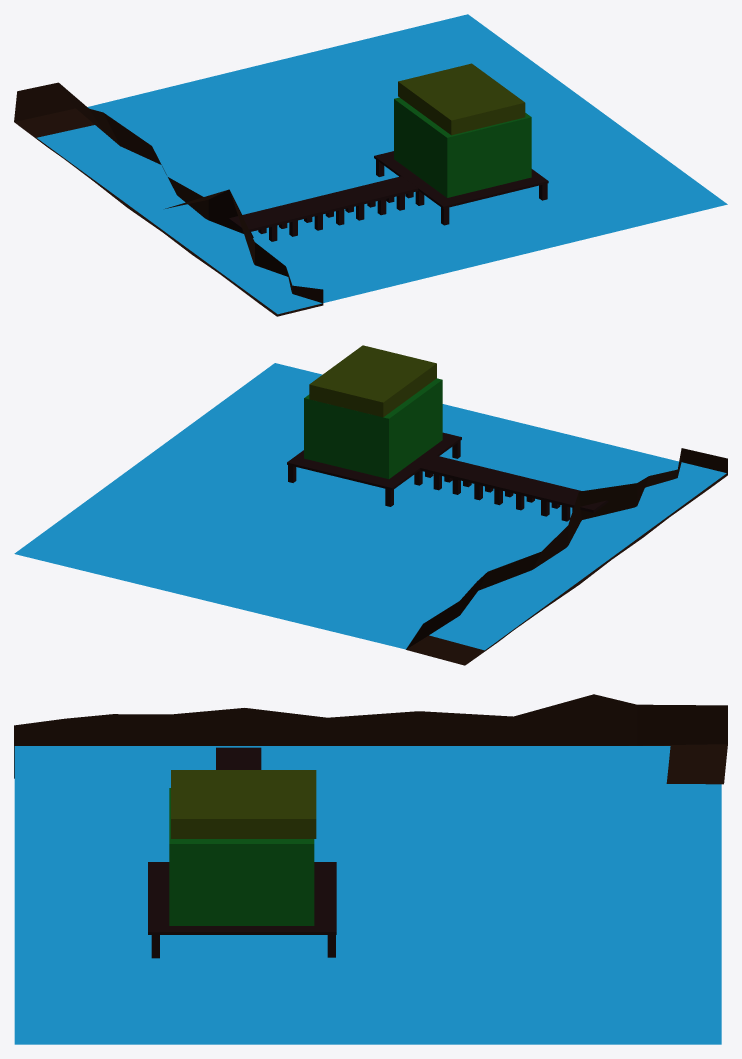
The model's file is owmoon.obj.
3 renders of one model, top to bottom at view 1: azimuth 30°, elevation 25°; view 2: azimuth 150°, elevation 25°; view 3: azimuth 270°, elevation 25°, orthographic. The views are drawn at different scales.
Visible parts, largest first — view 1: Plane, Cube.021_Cube, Cube_Cube.003, Cube.022_Cube.001, Cube.015_Cube.018, Cube.020_Cube.023; view 2: Plane, Cube.021_Cube, Cube_Cube.003, Cube.022_Cube.001, Cube.015_Cube.018, Cube.020_Cube.023; view 3: Plane, Cube_Cube.003, Cube.021_Cube, Cube.022_Cube.001, Cube.020_Cube.023, Cube.015_Cube.018.
Part boxes in pixels (x1,y1,x2,y2): Plane: (37, 14, 727, 314); Cube.021_Cube: (394, 97, 531, 197); Cube_Cube.003: (14, 82, 323, 316); Cube.022_Cube.001: (398, 63, 525, 135); Cube.015_Cube.018: (229, 176, 418, 231); Cube.020_Cube.023: (374, 151, 548, 208); Plane: (14, 363, 726, 650); Cube.021_Cube: (304, 378, 442, 479); Cube_Cube.003: (406, 448, 727, 665); Cube.022_Cube.001: (309, 345, 436, 417); Cube.015_Cube.018: (420, 455, 608, 512); Cube.020_Cube.023: (287, 432, 461, 490); Plane: (14, 746, 721, 1044); Cube_Cube.003: (14, 694, 727, 784); Cube.021_Cube: (169, 788, 314, 925); Cube.022_Cube.001: (171, 770, 316, 838); Cube.020_Cube.023: (148, 862, 336, 934); Cube.015_Cube.018: (216, 747, 261, 769).
Bounding box in the file's own units: 25.09 × 5.21 × 25.24.
